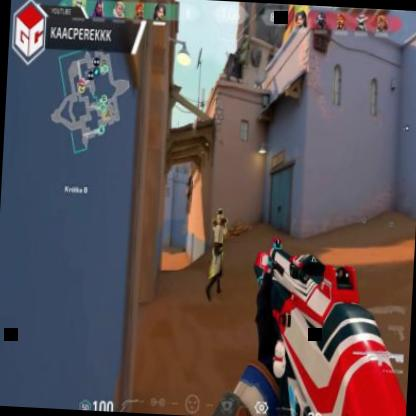enemy: (204, 204, 227, 302)
enemy_head: (216, 206, 225, 216)
